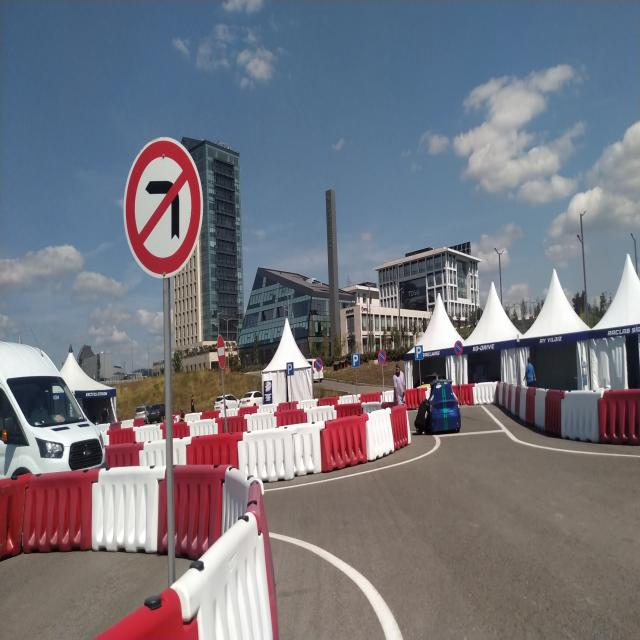forb_stopping: (454, 340, 464, 357), (378, 349, 387, 365), (314, 357, 323, 372)
